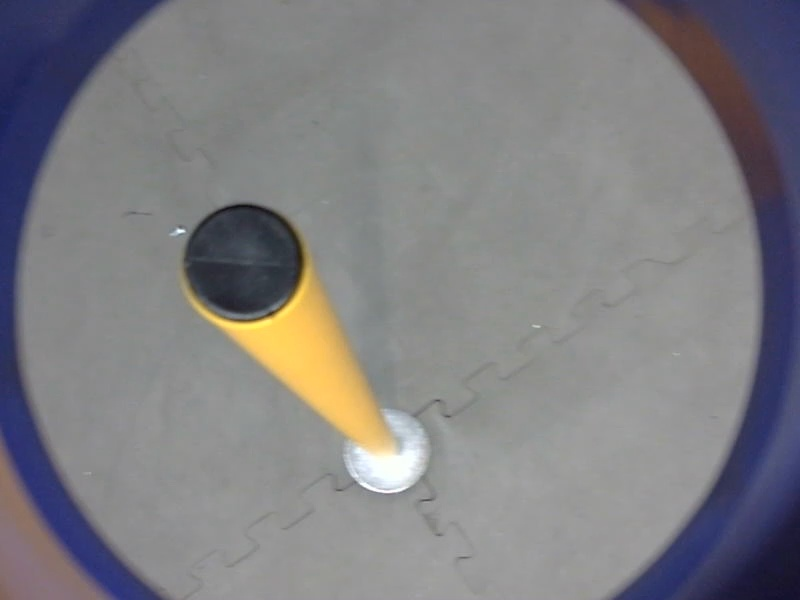tip: (173, 193, 314, 333)
